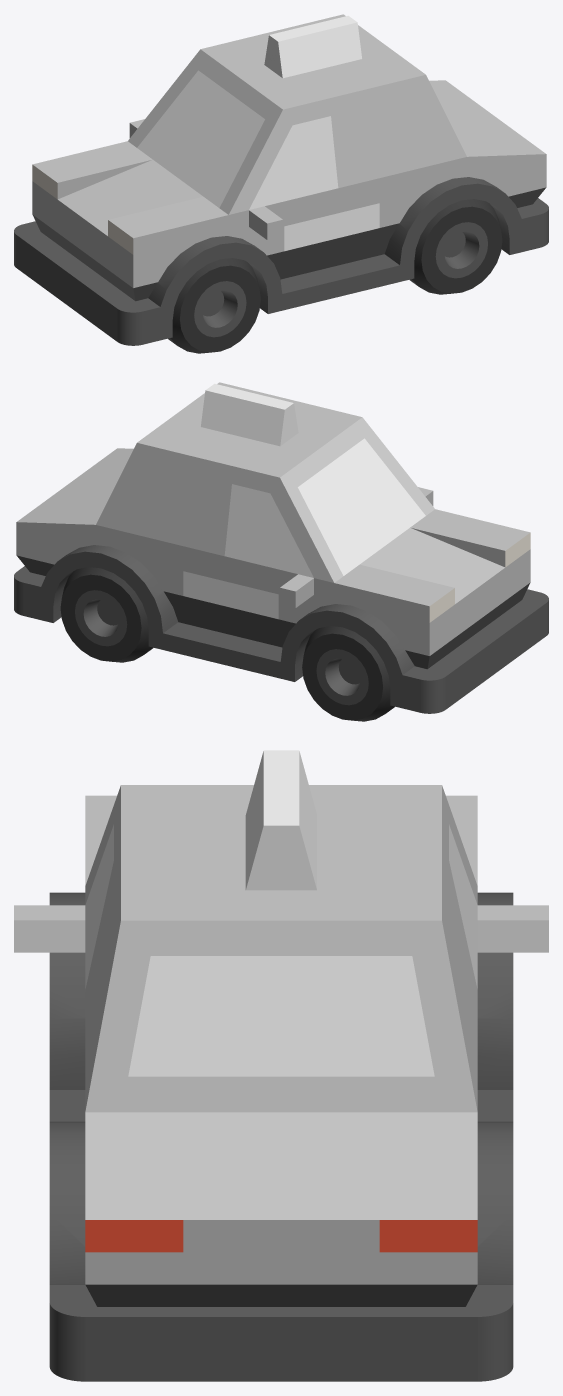
Rendered from taxi.obj.
3 views of the same model, one above another, from view 1: azimuth 30°, elevation 25°; view 2: azimuth 150°, elevation 25°; view 3: azimuth 270°, elevation 25° (orthographic). The views are drawn at different scales.
Visible parts, largest first — view 1: body, wheel_backLeft, wheel_frontLeft; view 2: body, wheel_backRight, wheel_frontRight; view 3: body.
Part boxes in pixels (box(x1,y1,x2,y2)): body: box(14, 14, 548, 345); wheel_backLeft: box(409, 199, 502, 294); wheel_frontLeft: box(168, 258, 260, 353); body: box(14, 382, 548, 713); wheel_backRight: box(60, 567, 153, 662); wheel_frontRight: box(302, 626, 394, 721); body: box(14, 750, 548, 1381).
Size of the model in its own units: 2.03 by 1.12 by 1.13.
